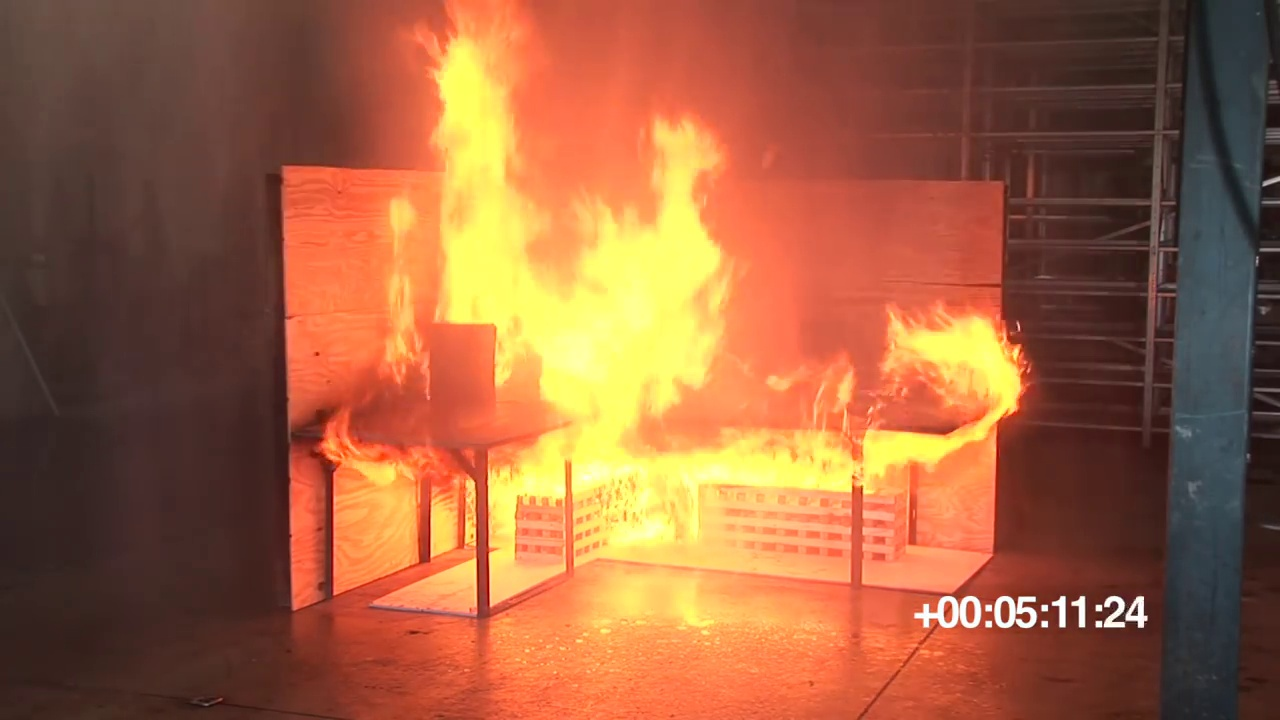fire: (427, 2, 732, 432), (779, 301, 1028, 484), (512, 436, 888, 492), (380, 204, 413, 354)
